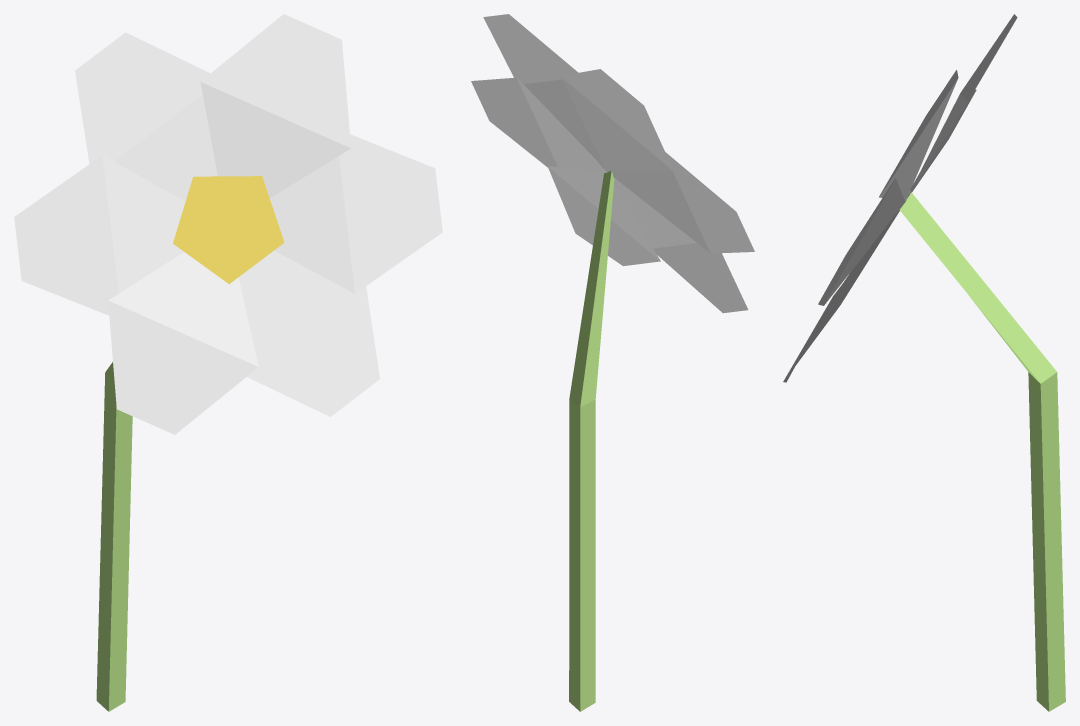
Rendered from Flower_e_TwoS_05.fbx.
3 views of the same model, side by side, from view 1: azimuth 30°, elevation 25°; view 2: azimuth 150°, elevation 25°; view 3: azimuth 270°, elevation 25° (orthographic). The views are drawn at different scales.
Parts seen in each view (by area): view 1: Flower_e_TwoS_05; view 2: Flower_e_TwoS_05; view 3: Flower_e_TwoS_05.
Boxes of the visible parts, <box> form: Flower_e_TwoS_05: <box>14,14,442,711</box>; Flower_e_TwoS_05: <box>471,14,754,711</box>; Flower_e_TwoS_05: <box>783,14,1065,711</box>.
Bounding box in the file's own units: 0.1993 × 0.3645 × 0.134.
